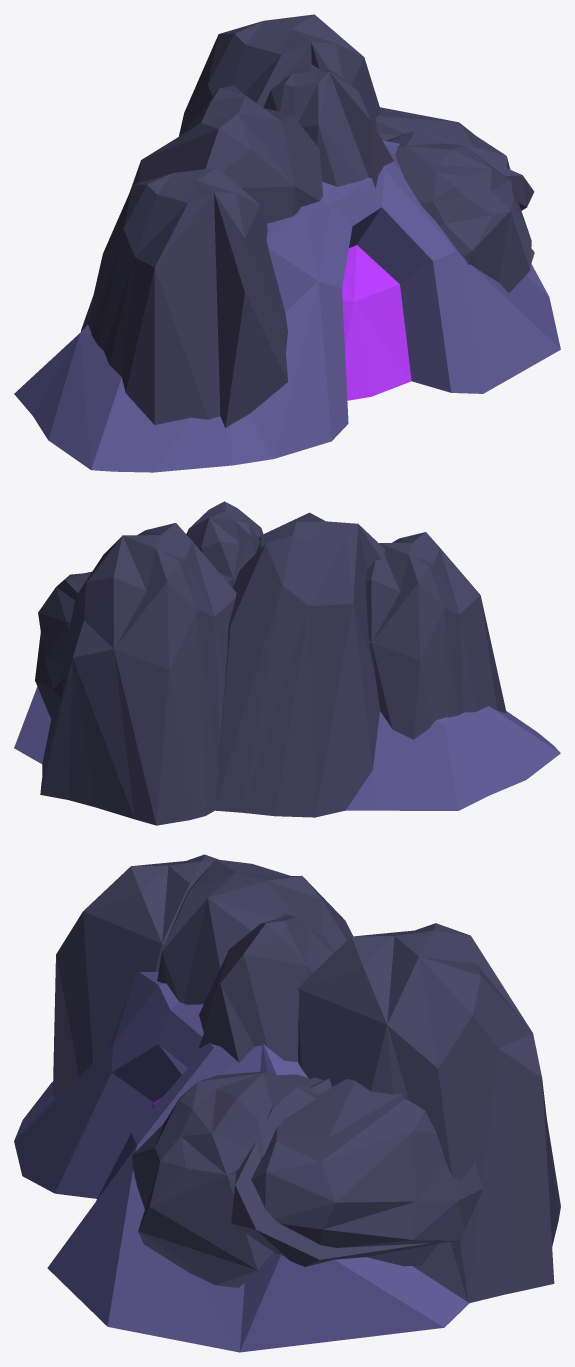
The model's file is VL_Cave.fbx.
3 views of the same model, one above another, from view 1: azimuth 30°, elevation 25°; view 2: azimuth 150°, elevation 25°; view 3: azimuth 270°, elevation 25° (orthographic). The views are drawn at different scales.
Parts seen in each view (by area): view 1: VL_Cave; view 2: VL_Cave; view 3: VL_Cave.
Part boxes in pixels (bbox=[...]): VL_Cave: bbox=[14, 14, 560, 472]; VL_Cave: bbox=[14, 501, 560, 825]; VL_Cave: bbox=[14, 854, 560, 1352].
Bounding box in the file's own units: 360 × 176 × 281.
1 material, 1 textured.
